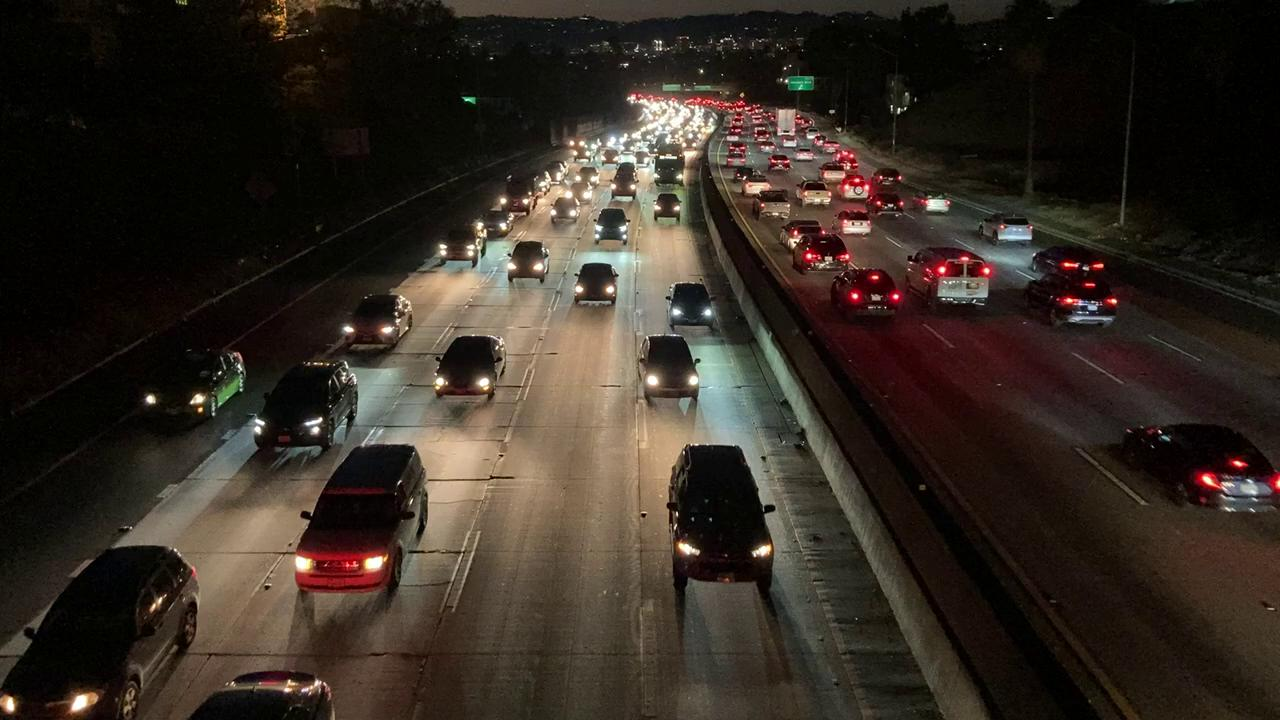car: (9, 533, 213, 719), (285, 433, 441, 613), (1122, 406, 1277, 532), (659, 438, 782, 593), (247, 360, 365, 445), (130, 342, 249, 425), (432, 332, 515, 407), (901, 243, 993, 308), (1024, 271, 1122, 331), (634, 331, 707, 408), (343, 291, 417, 357), (830, 267, 903, 318), (789, 232, 854, 274), (436, 222, 495, 266), (663, 281, 714, 330), (575, 262, 625, 309), (978, 211, 1035, 247), (507, 242, 553, 282), (594, 209, 634, 246), (778, 221, 827, 247), (750, 192, 793, 221), (651, 192, 686, 227), (549, 192, 584, 226), (832, 210, 874, 238), (477, 209, 520, 236), (792, 181, 835, 208), (867, 191, 905, 219), (914, 189, 950, 215), (837, 177, 870, 201), (610, 173, 639, 200), (869, 166, 903, 189), (743, 174, 773, 197), (816, 162, 846, 183), (570, 181, 596, 202), (765, 154, 793, 171), (576, 166, 600, 184), (792, 147, 814, 161)
truck: (500, 174, 541, 216), (654, 144, 689, 184)
